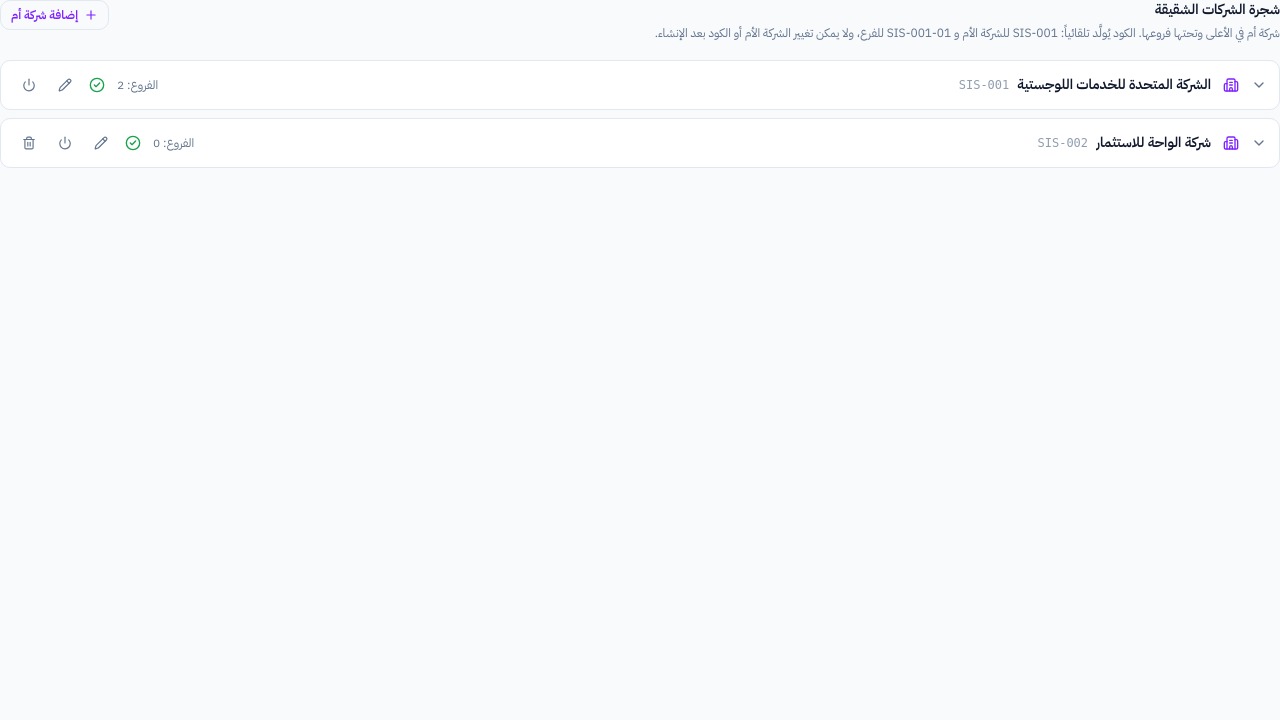
Test: Sister companies — create › creates a parent company with a name only
The image size is (1280, 720).
Click the button "إضافة شركة أم". click: point(54, 15)
box: [0,0,109,30]
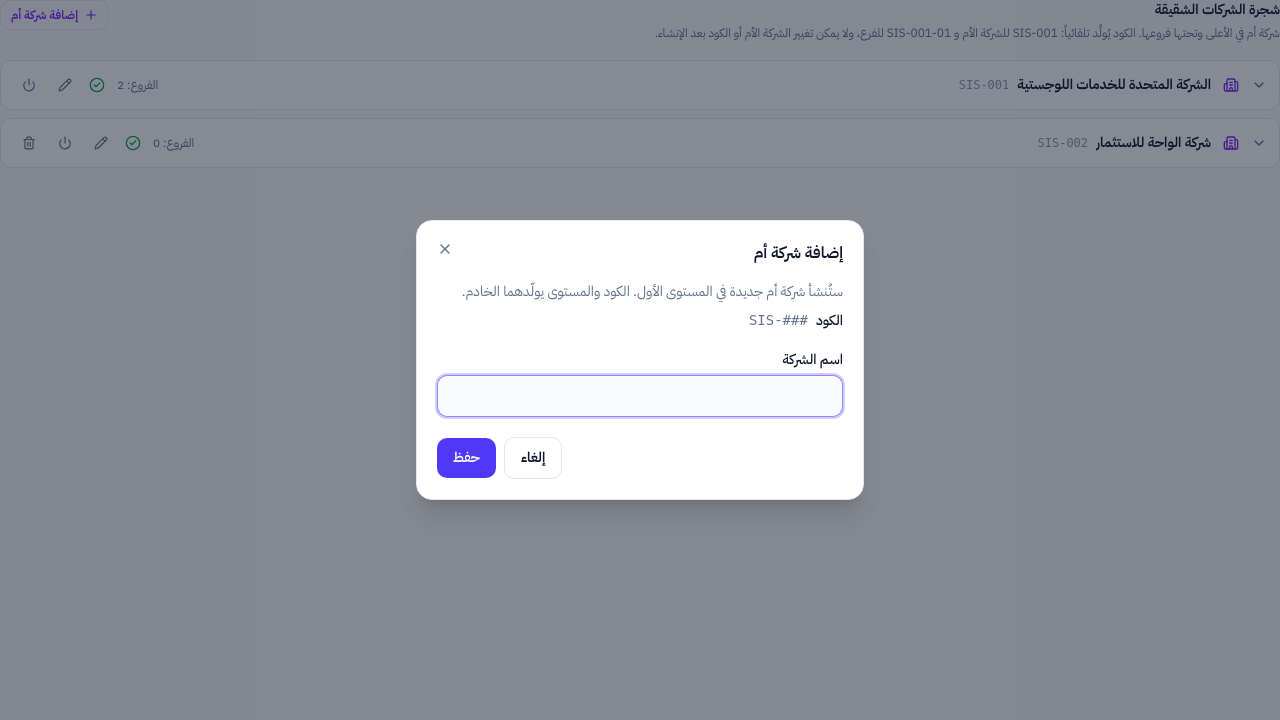
Expected: the text "SIS-###" is shown, [749,310,808,330]
Type "شركة جديدة للاختبار" into the field labelled "اسم الشركة". click: point(640, 396)
box: [437,375,843,417]
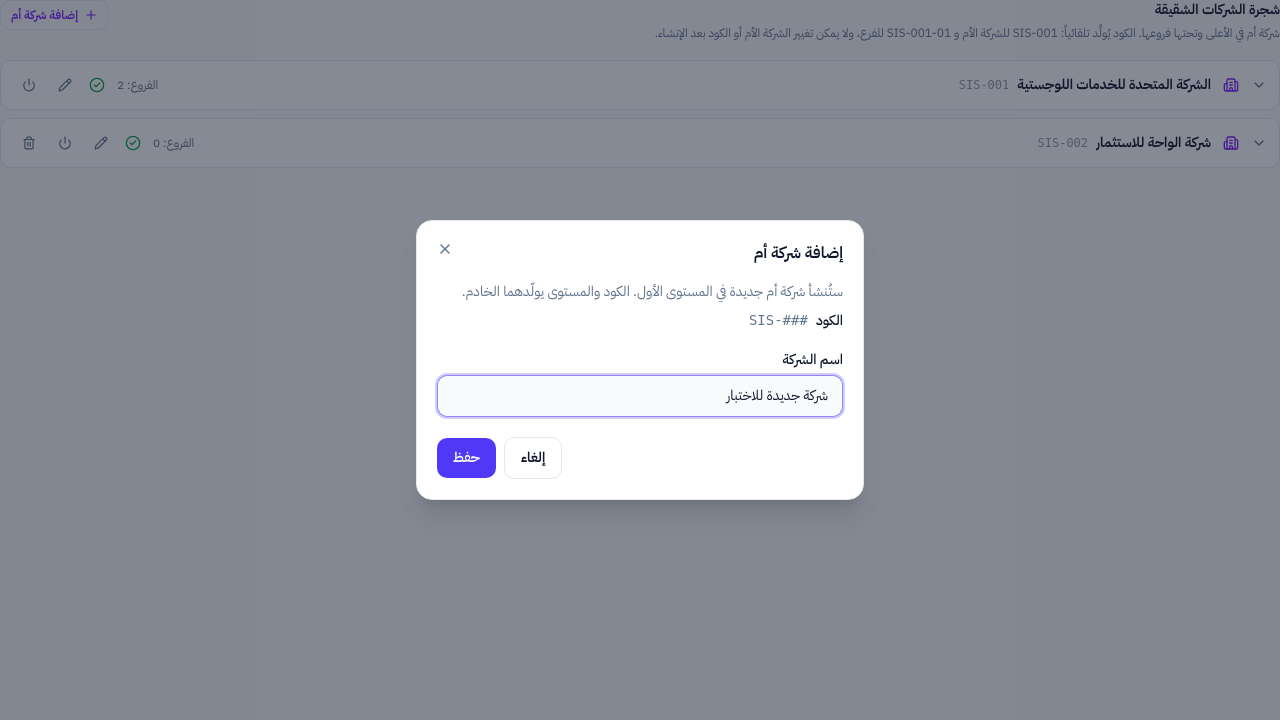
Click the button "حفظ". click: point(466, 458)
box: [437,438,496,478]
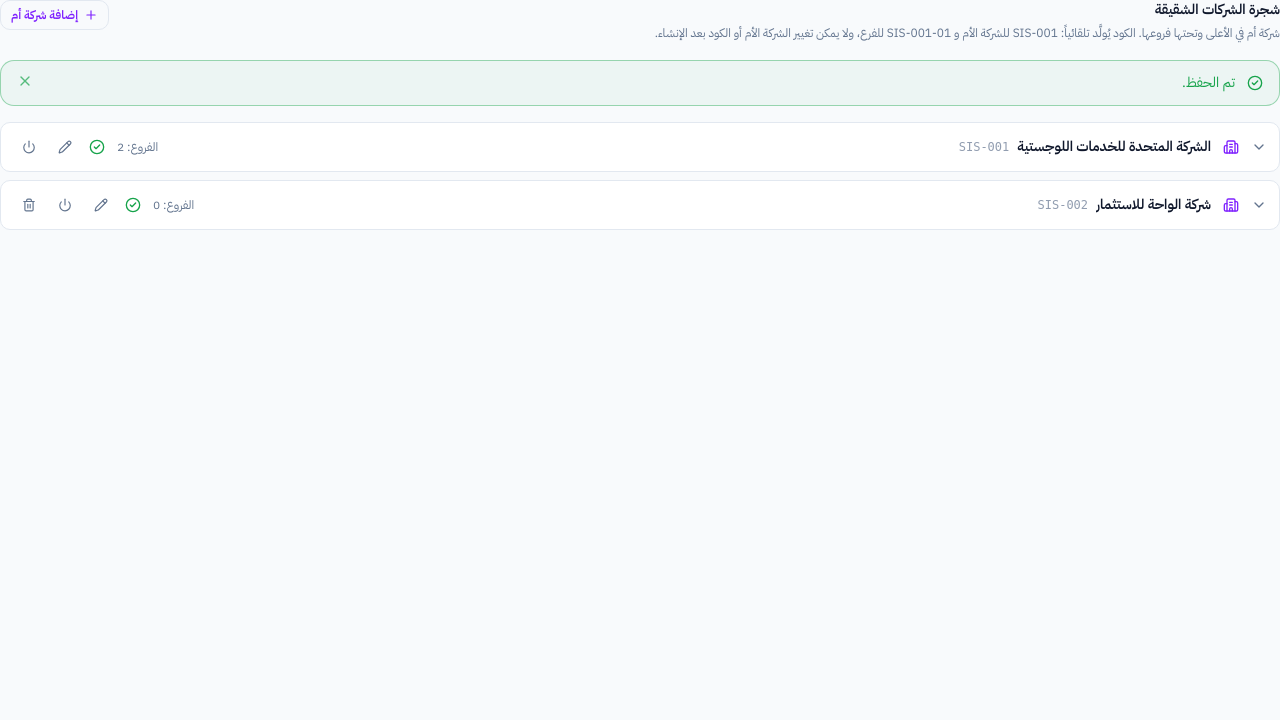
Expected: the dialog is gone
Expected: the message reads "تم الحفظ.", [1182,72,1235,92]
